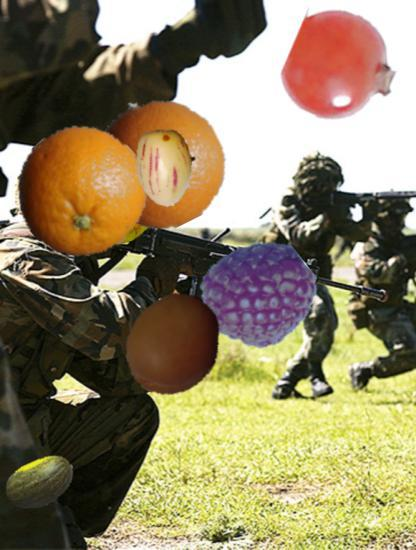Apricot: (121, 292, 227, 398)
Melon: (5, 447, 77, 519)
Orange: (93, 96, 226, 229), (16, 126, 147, 257)
Pepino: (127, 127, 206, 206)
Pomelo: (83, 171, 159, 247)
Raspberry: (204, 239, 315, 350)
Redcurrant: (285, 12, 398, 125)
